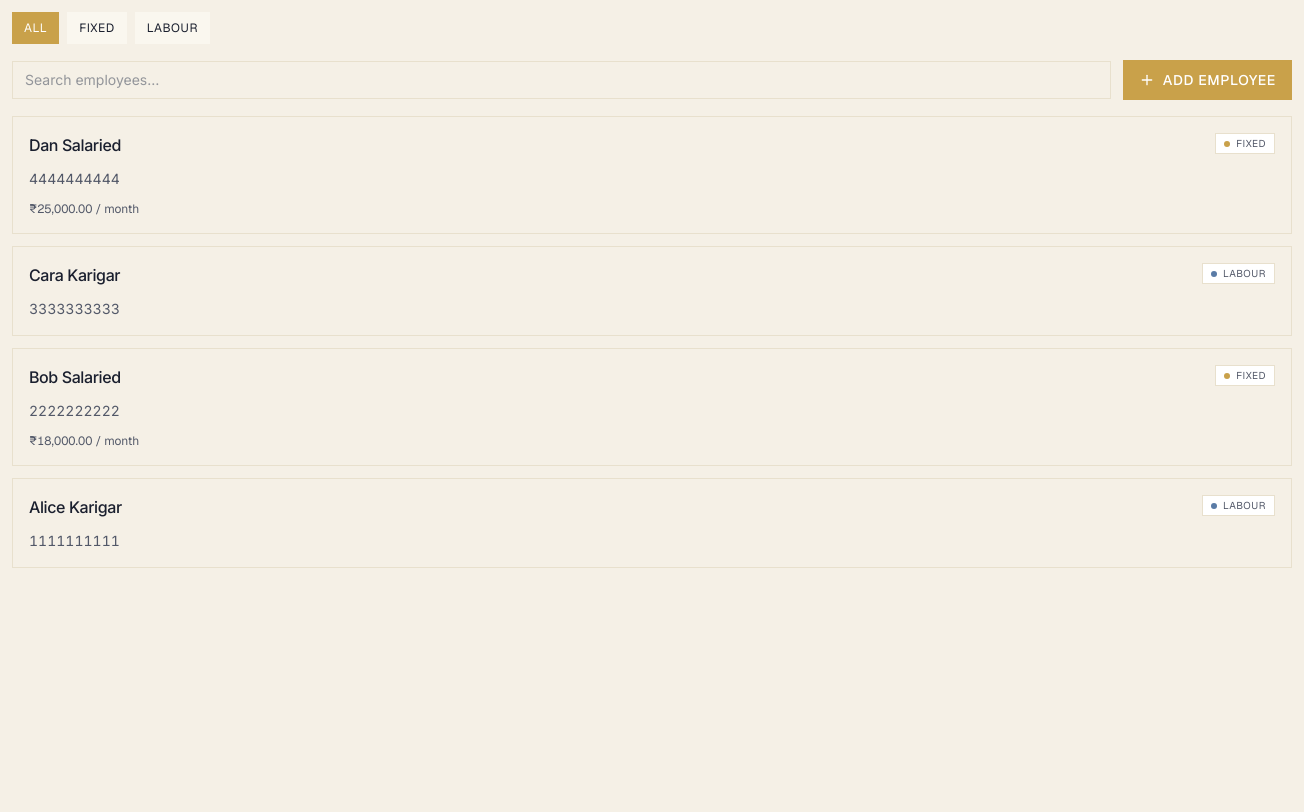
it: EmployeesTable — mobile viewport › type filter pills still work on mobile (filter pre-applies before cards render)
Filter to FIXED — only Bob + Dan cards should render.
Click the radio button labelled "Fixed".
click(97, 28)  # box x1=67 y1=12 x2=127 y2=44
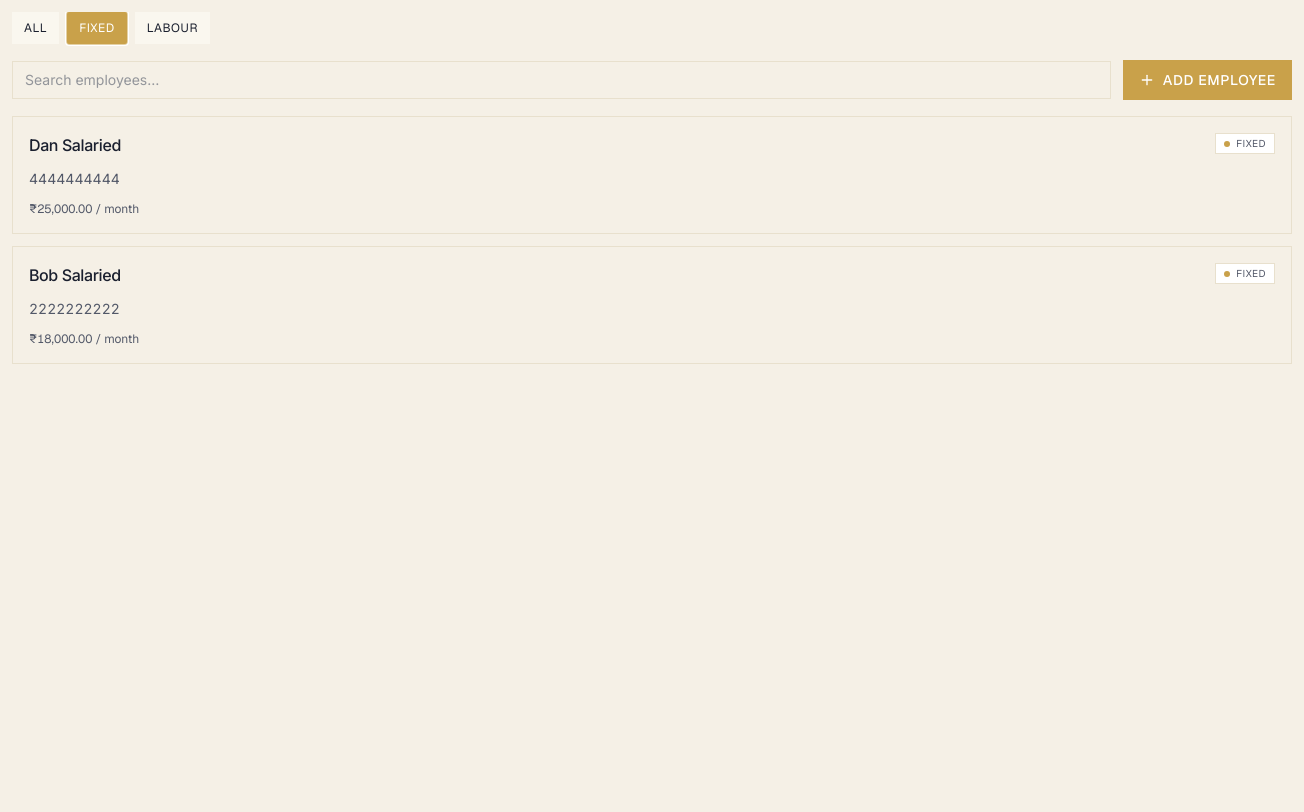
Expected: the element with test id "employee-mobile-card-4" is shown, x1=12 y1=116 x2=1292 y2=234
Now the element with test id "employee-mobile-card-2" is shown, box x1=12 y1=246 x2=1292 y2=364
Now the element with test id "employee-mobile-card-3" is gone
